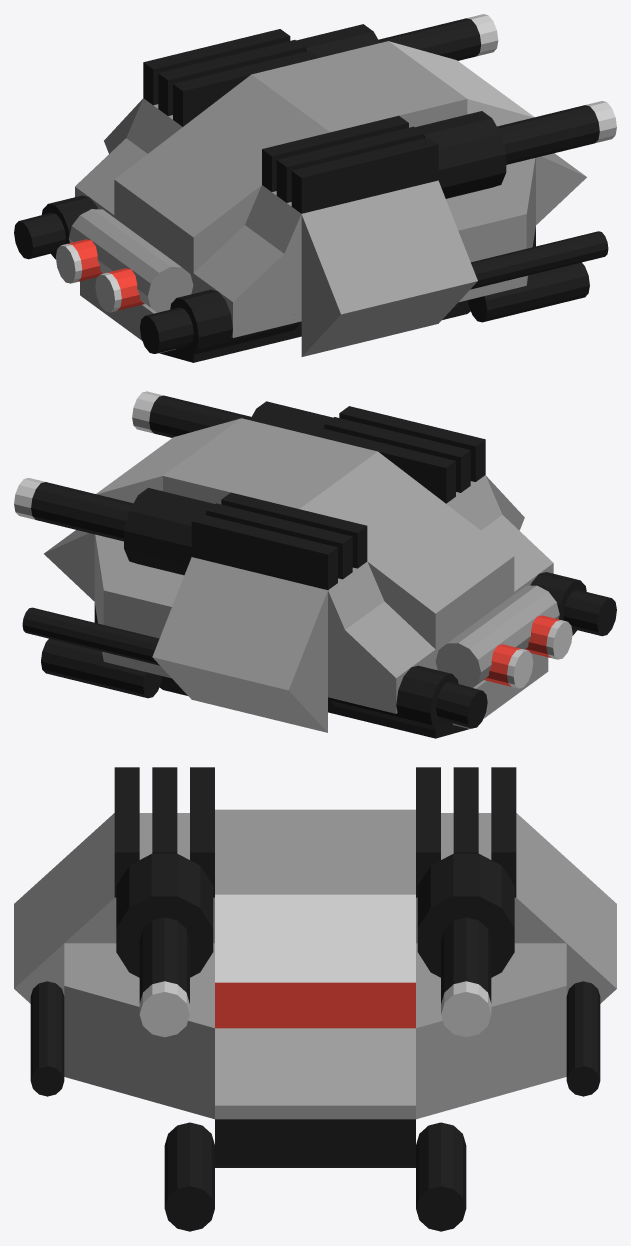
3 views of the same model, one above another, from view 1: azimuth 30°, elevation 25°; view 2: azimuth 150°, elevation 25°; view 3: azimuth 270°, elevation 25° (orthographic). The views are drawn at different scales.
Parts seen in each view (by area): view 1: mesh_1015898078, mesh_589470394, mesh_591644720, mesh_217639342, mesh_2121520537, mesh_1256770605, mesh_636039674, mesh_568870290, mesh_762377343, mesh_1657645655, mesh_243230594, mesh_1952689470 (+24 smaller); view 2: mesh_1414526055, mesh_589470394, mesh_186047645, mesh_24599062, mesh_752723618, mesh_1256770605, mesh_1884899770, mesh_568870290, mesh_762377343, mesh_1713710869, mesh_1211388998, mesh_1952689470 (+24 smaller); view 3: mesh_24599062, mesh_217639342, mesh_1664939391, mesh_1015898078, mesh_1414526055, mesh_1114001873, mesh_338670637, mesh_622232350, mesh_585068316, mesh_762377343, mesh_1256770605, mesh_1713710869 (+17 smaller).
Boxes of the visible parts, left/top/right/bottom form: mesh_1015898078: left=301, top=180, right=477, bottom=314; mesh_589470394: left=114, top=74, right=329, bottom=237; mesh_591644720: left=193, top=185, right=301, bottom=302; mesh_217639342: left=446, top=158, right=535, bottom=302; mesh_2121520537: left=291, top=137, right=438, bottom=213; mesh_1256770605: left=320, top=41, right=467, bottom=127; mesh_636039674: left=301, top=281, right=477, bottom=356; mesh_568870290: left=68, top=209, right=193, bottom=312; mesh_762377343: left=251, top=58, right=398, bottom=132; mesh_1657645655: left=415, top=111, right=506, bottom=198; mesh_243230594: left=497, top=105, right=599, bottom=164; mesh_1952689470: left=114, top=180, right=244, bottom=272; mesh_1414526055: left=152, top=557, right=327, bottom=690; mesh_589470394: left=299, top=452, right=513, bottom=613; mesh_186047645: left=328, top=561, right=435, bottom=677; mesh_24599062: left=94, top=534, right=184, bottom=678; mesh_752723618: left=191, top=514, right=337, bottom=589; mesh_1256770605: left=163, top=418, right=309, bottom=504; mesh_1884899770: left=153, top=657, right=327, bottom=732; mesh_568870290: left=435, top=585, right=559, bottom=687; mesh_762377343: left=231, top=435, right=377, bottom=508; mesh_1713710869: left=124, top=488, right=214, bottom=575; mesh_1211388998: left=31, top=482, right=133, bottom=541; mesh_1952689470: left=385, top=556, right=514, bottom=649; mesh_24599062: left=416, top=943, right=566, bottom=1119; mesh_217639342: left=64, top=943, right=214, bottom=1119; mesh_1664939391: left=215, top=894, right=415, bottom=982; mesh_1015898078: left=14, top=813, right=114, bottom=988; mesh_1414526055: left=516, top=813, right=616, bottom=988; mesh_1114001873: left=215, top=982, right=415, bottom=1028; mesh_338670637: left=215, top=1028, right=315, bottom=1119; mesh_622232350: left=315, top=1028, right=415, bottom=1119; mesh_585068316: left=215, top=1119, right=415, bottom=1164; mesh_762377343: left=215, top=809, right=415, bottom=852; mesh_1256770605: left=215, top=852, right=415, bottom=894; mesh_1713710869: left=417, top=853, right=514, bottom=977.
Bounding box in the file's own units: 27 × 12 × 24.
